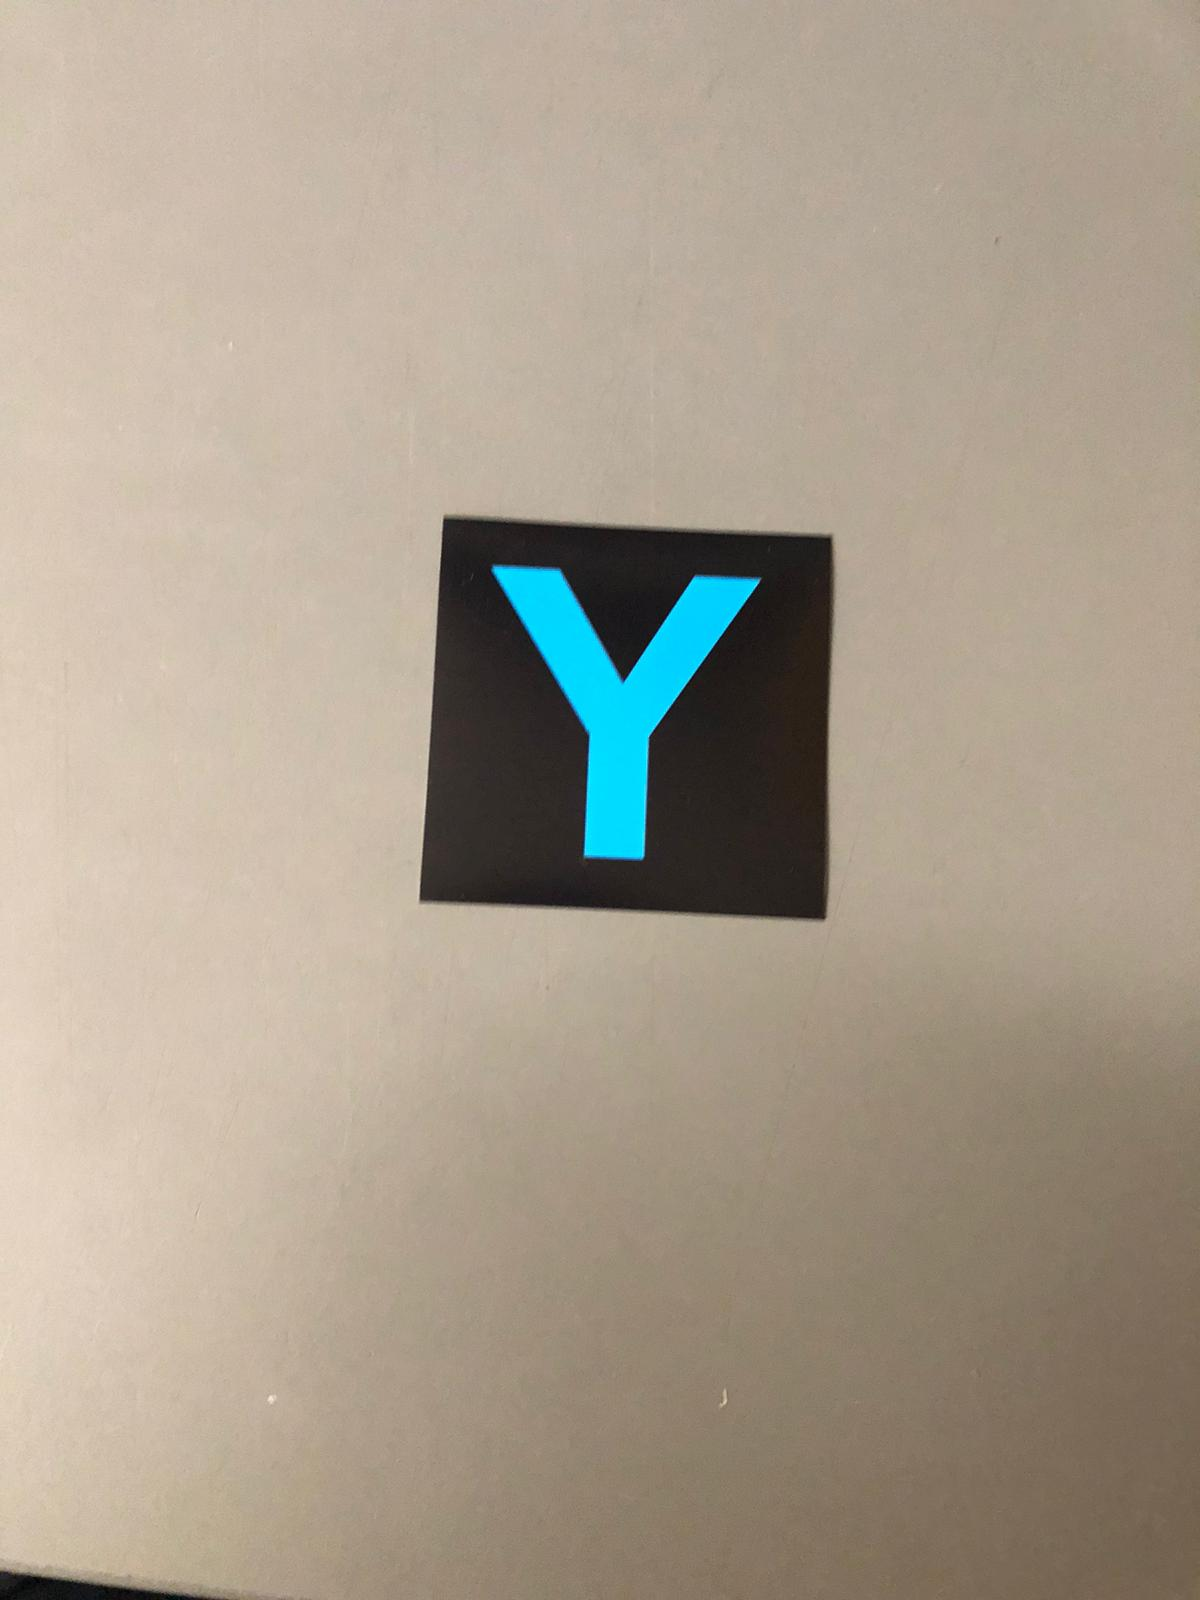Y: (455, 519, 803, 905)
